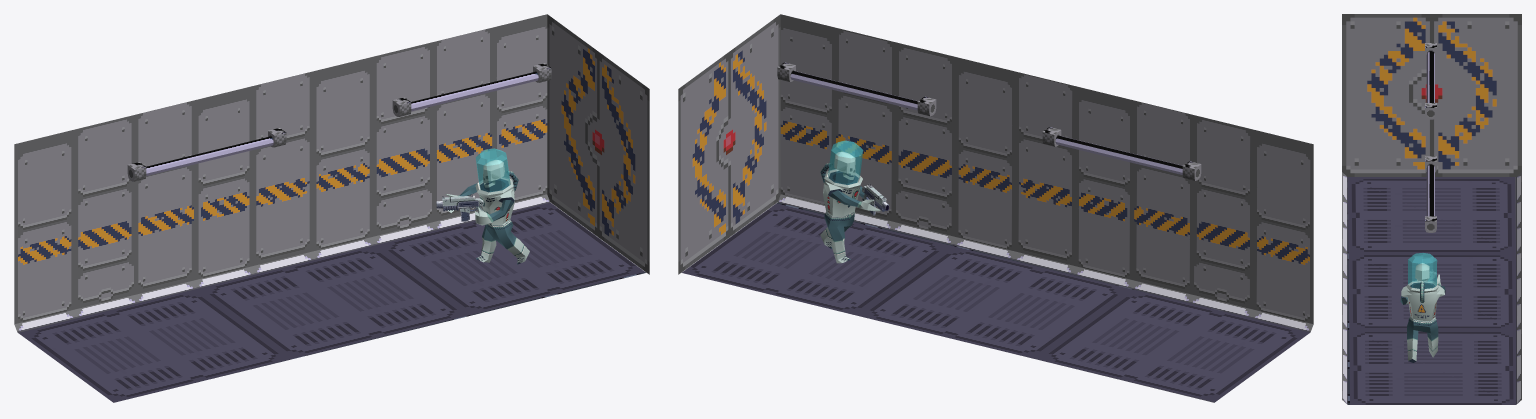
The model's file is Pixel-Game-Assets.glb.
3 views of the same model, side by side, from view 1: azimuth 30°, elevation 25°; view 2: azimuth 150°, elevation 25°; view 3: azimuth 270°, elevation 25° (orthographic). The views are drawn at different scales.
Parts seen in each view (by area): view 1: I room, I room doorway, MeshEnemy, Neon, Neon2, enemyhelmet, Gun; view 2: I room, I room doorway, MeshEnemy, Neon2, Neon, enemyhelmet; view 3: I room, I room doorway001, MeshEnemy, enemyhelmet, Neon, Neon2, enemyskull.
Part boxes in pixels (x1=…): I room: x1=14, y1=14, x2=645, y2=402; I room doorway: x1=547, y1=14, x2=649, y2=274; MeshEnemy: x1=445, y1=177, x2=529, y2=264; Neon: x1=392, y1=63, x2=551, y2=116; Neon2: x1=127, y1=128, x2=286, y2=181; enemyhelmet: x1=475, y1=148, x2=510, y2=192; Gun: x1=436, y1=193, x2=483, y2=221; I room: x1=682, y1=14, x2=1313, y2=402; I room doorway: x1=678, y1=14, x2=780, y2=274; MeshEnemy: x1=820, y1=169, x2=880, y2=263; Neon2: x1=1042, y1=127, x2=1201, y2=180; Neon: x1=777, y1=62, x2=936, y2=116; enemyhelmet: x1=828, y1=140, x2=863, y2=184; I room: x1=1342, y1=172, x2=1521, y2=404; I room doorway001: x1=1342, y1=14, x2=1521, y2=176; MeshEnemy: x1=1400, y1=274, x2=1445, y2=362; enemyhelmet: x1=1408, y1=253, x2=1437, y2=288; Neon: x1=1425, y1=156, x2=1436, y2=232; Neon2: x1=1425, y1=43, x2=1436, y2=119; enemyskull: x1=1415, y1=263, x2=1429, y2=281.
Size of the model in its own units: 2.16 by 0.7218 by 0.7208.
Materials: 8 (7 with a texture image).
